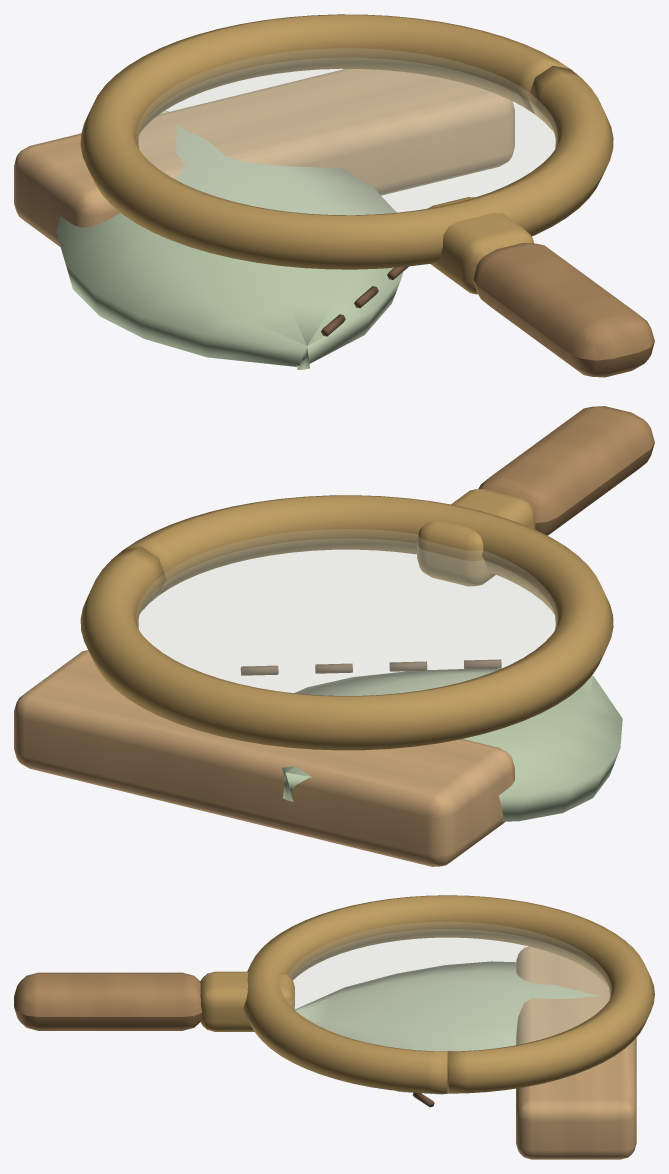
The model's file is gift-09.454bd8d0e6c0.glb.
3 renders of one model, top to bottom at view 1: azimuth 30°, elevation 25°; view 2: azimuth 150°, elevation 25°; view 3: azimuth 270°, elevation 25°, orthographic. The views are drawn at different scales.
Visible parts, largest first — view 1: PART_PIVOT_mirror_MAT_soft_brass, Low_cost_milk_lens, Embossed_paper_leaf, Short_wood_support, Short_walnut_handle, PART_GIFT_09_ROOT_MAT_small_brown_detail; view 2: PART_PIVOT_mirror_MAT_soft_brass, Low_cost_milk_lens, Short_wood_support, Embossed_paper_leaf, Short_walnut_handle, PART_GIFT_09_ROOT_MAT_small_brown_detail; view 3: PART_PIVOT_mirror_MAT_soft_brass, Low_cost_milk_lens, Short_wood_support, Embossed_paper_leaf, Short_walnut_handle.
Part boxes in pixels (bbox=[...]): PART_PIVOT_mirror_MAT_soft_brass: bbox=[80, 14, 613, 294]; Low_cost_milk_lens: bbox=[137, 49, 557, 214]; Embossed_paper_leaf: bbox=[56, 110, 403, 369]; Short_wood_support: bbox=[14, 69, 514, 246]; Short_walnut_handle: bbox=[473, 243, 654, 377]; PART_GIFT_09_ROOT_MAT_small_brown_detail: bbox=[321, 266, 408, 336]; PART_PIVOT_mirror_MAT_soft_brass: bbox=[80, 489, 613, 750]; Low_cost_milk_lens: bbox=[137, 529, 556, 695]; Short_wood_support: bbox=[14, 650, 514, 866]; Embossed_paper_leaf: bbox=[281, 669, 622, 821]; Short_walnut_handle: bbox=[478, 406, 654, 535]; PART_GIFT_09_ROOT_MAT_small_brown_detail: bbox=[240, 659, 501, 675]; PART_PIVOT_mirror_MAT_soft_brass: bbox=[200, 895, 654, 1093]; Low_cost_milk_lens: bbox=[289, 922, 610, 1050]; Short_wood_support: bbox=[516, 946, 636, 1159]; Embossed_paper_leaf: bbox=[295, 961, 597, 1094]; Short_walnut_handle: bbox=[14, 972, 202, 1030].
Size of the model in its own units: 0.0543 by 0.0158 by 0.0798.
Materials: 6 (2 with a texture image).
